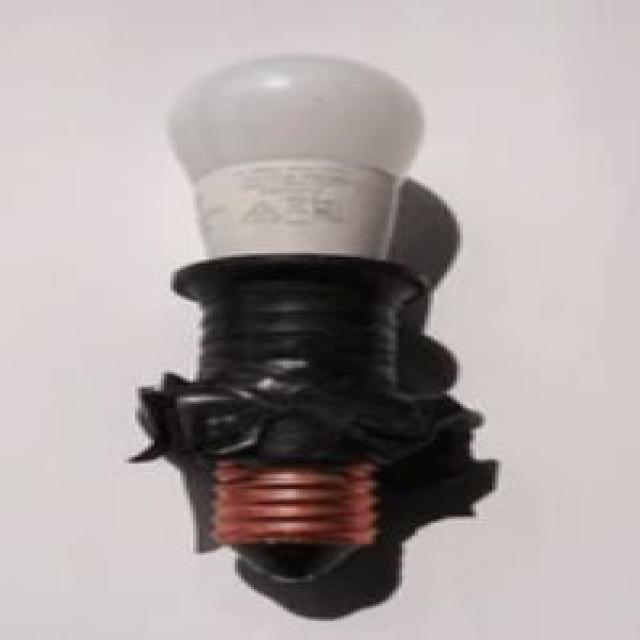electronic: (129, 51, 495, 615), (164, 51, 425, 262)
